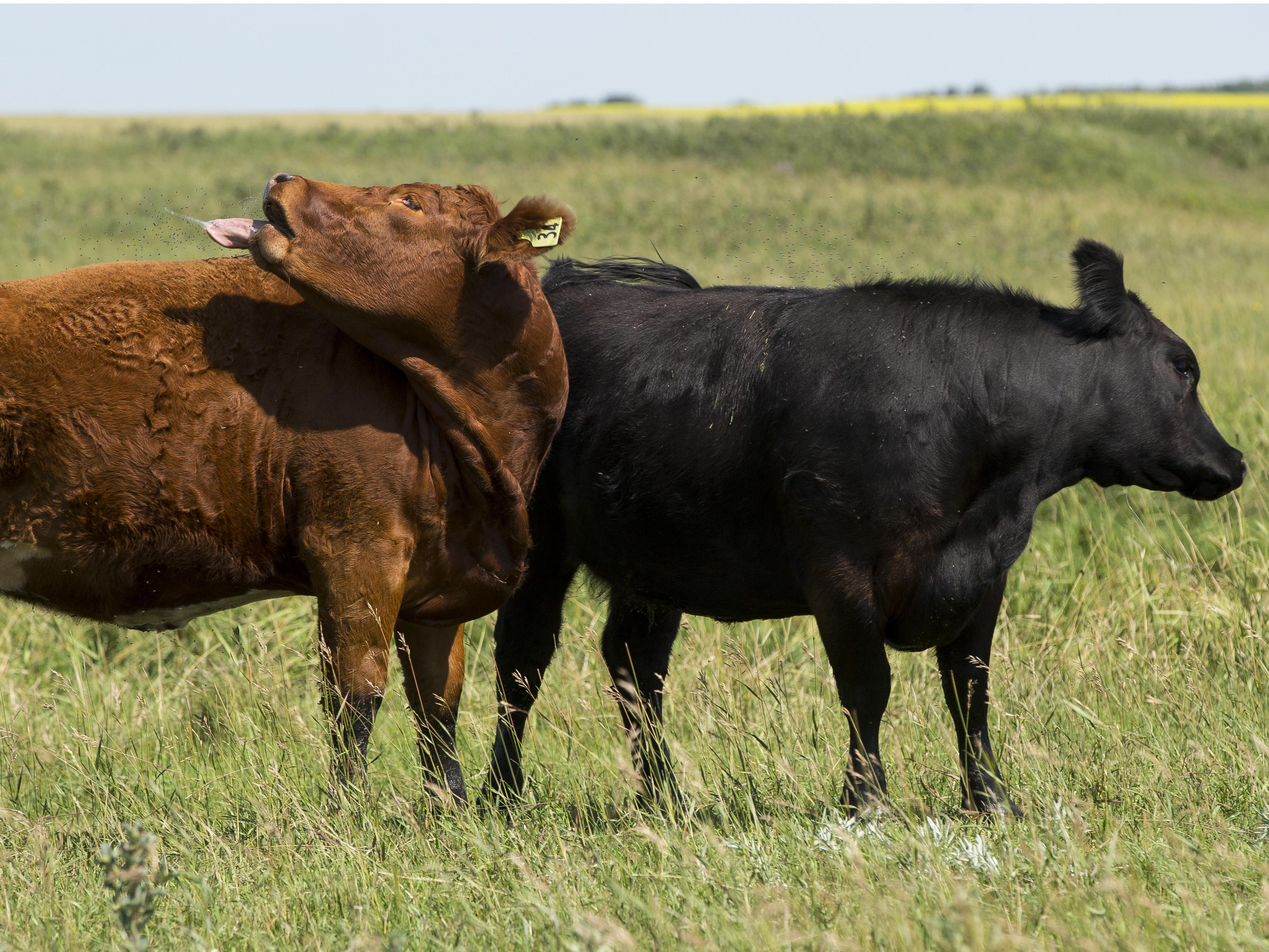cow: (0, 175, 1249, 817)
